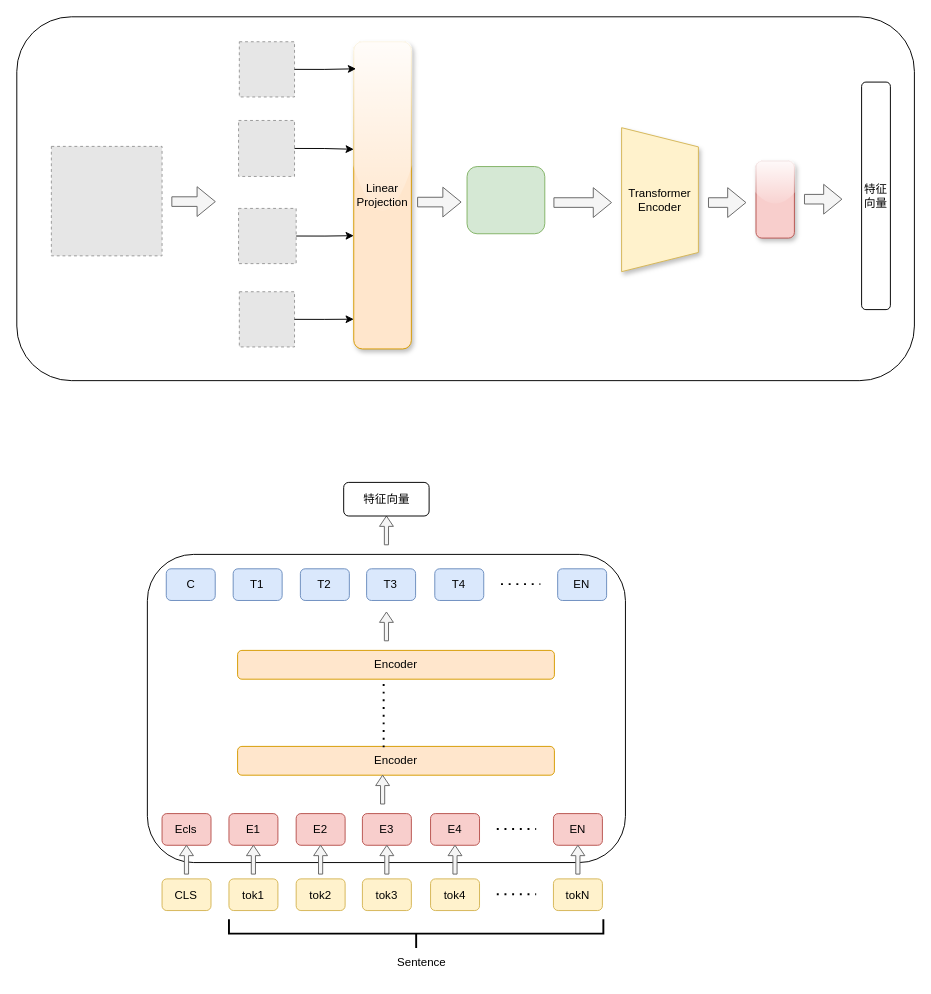
Some shapes in this 931 by 994 pixel diagram are drawn without their labels. Grey dashed boxes stand in for pictures. The centre of each missing label's shape, as x and y in pixels:
"MLP" goes at (775,200).
"positional encoding" goes at (505,200).
